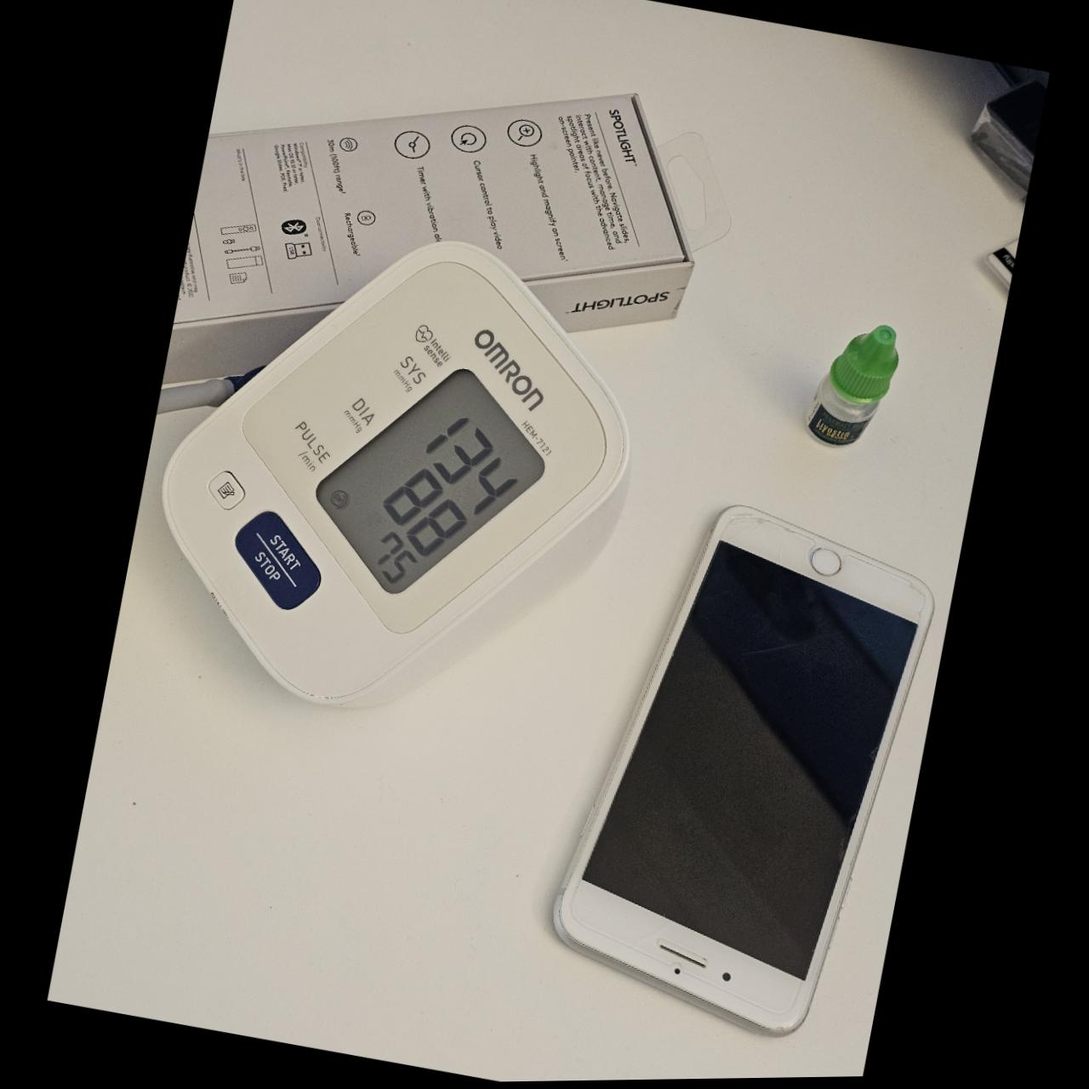lcd display: (294, 340, 567, 625)
